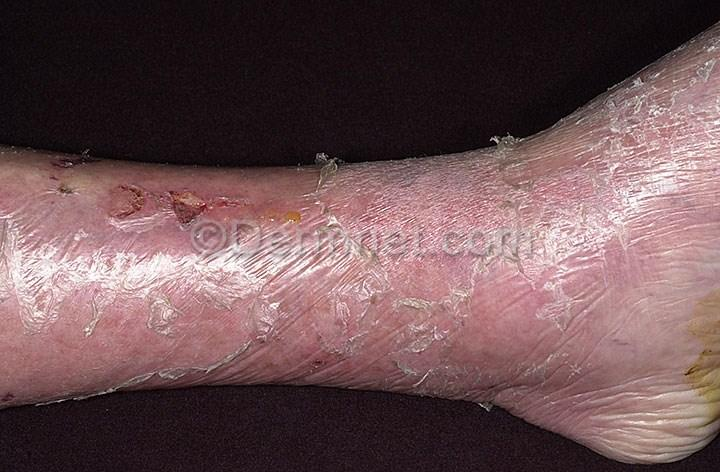Eczema: (93, 171, 212, 235), (42, 151, 93, 186)
